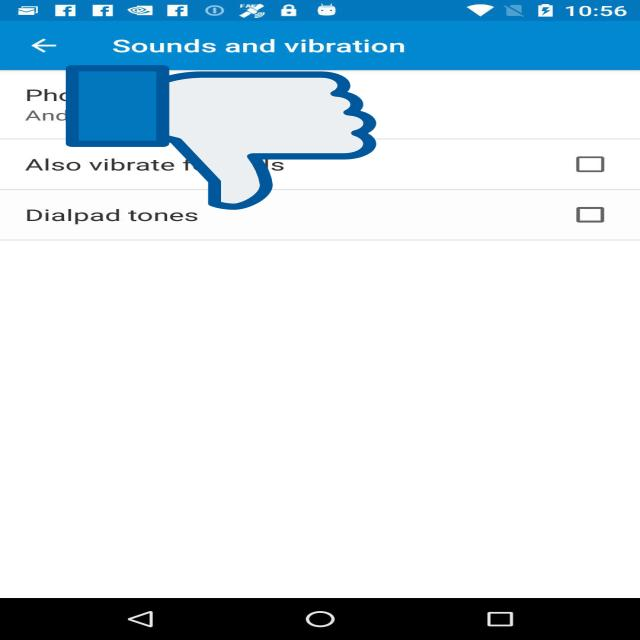obstruction: (66, 62, 376, 213)
